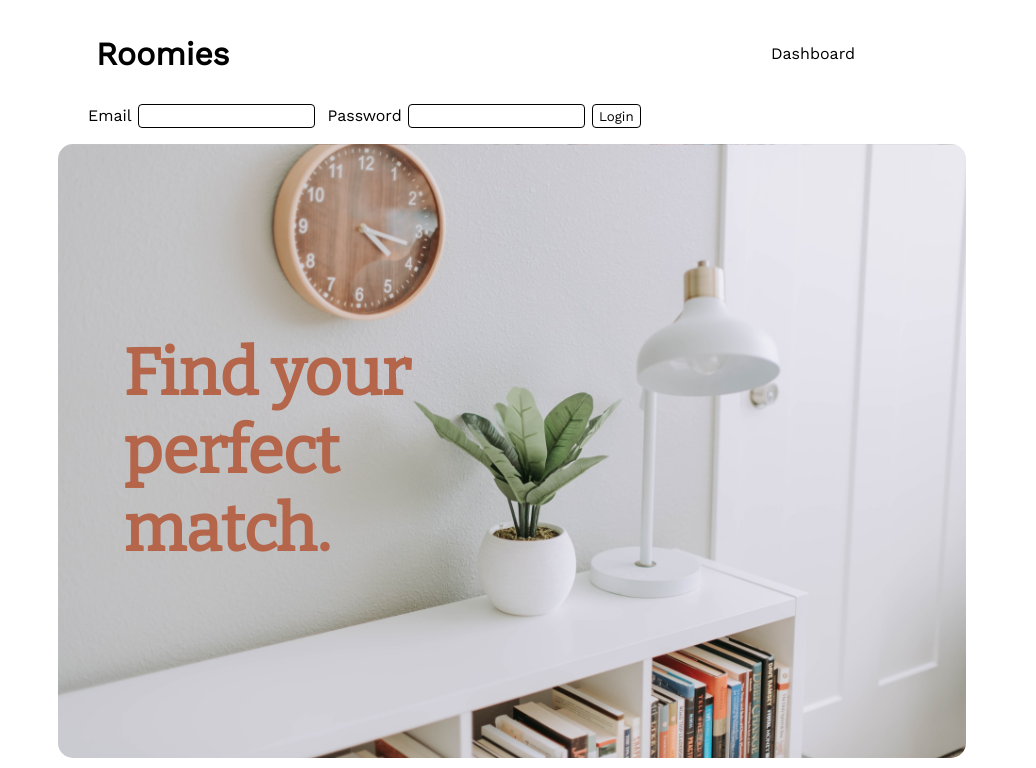
Test: Roomie Requests › Should display a message if the user has not requested any roomies
Type "harrison@email.com" into the field named "userName" at (227, 116), box [138,104,315,128]
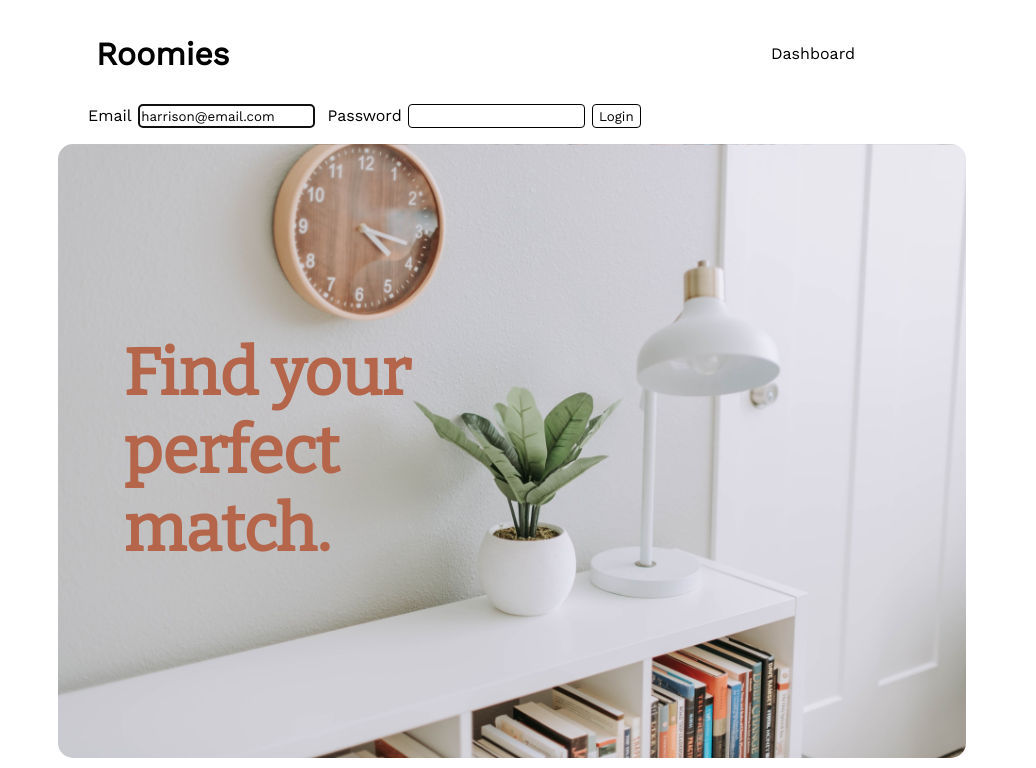
Type "test" into the password field named "password" at (497, 116), box [408,104,585,128]
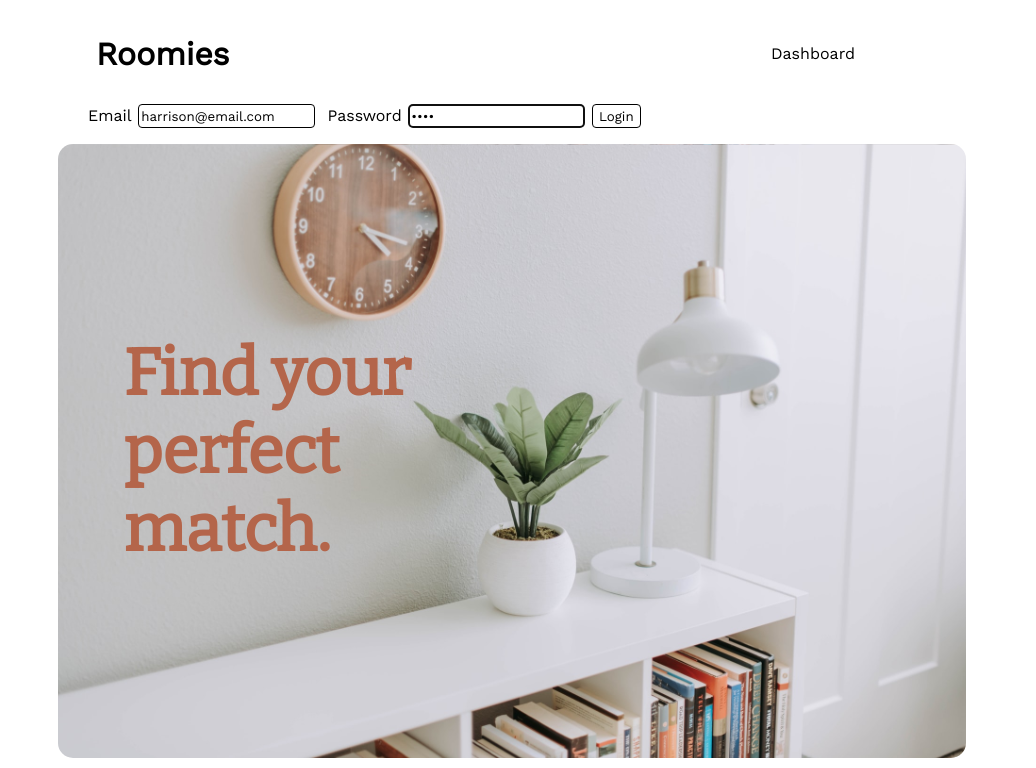
Click the button with class "submit-button" at (617, 117), box [592,105,641,128]
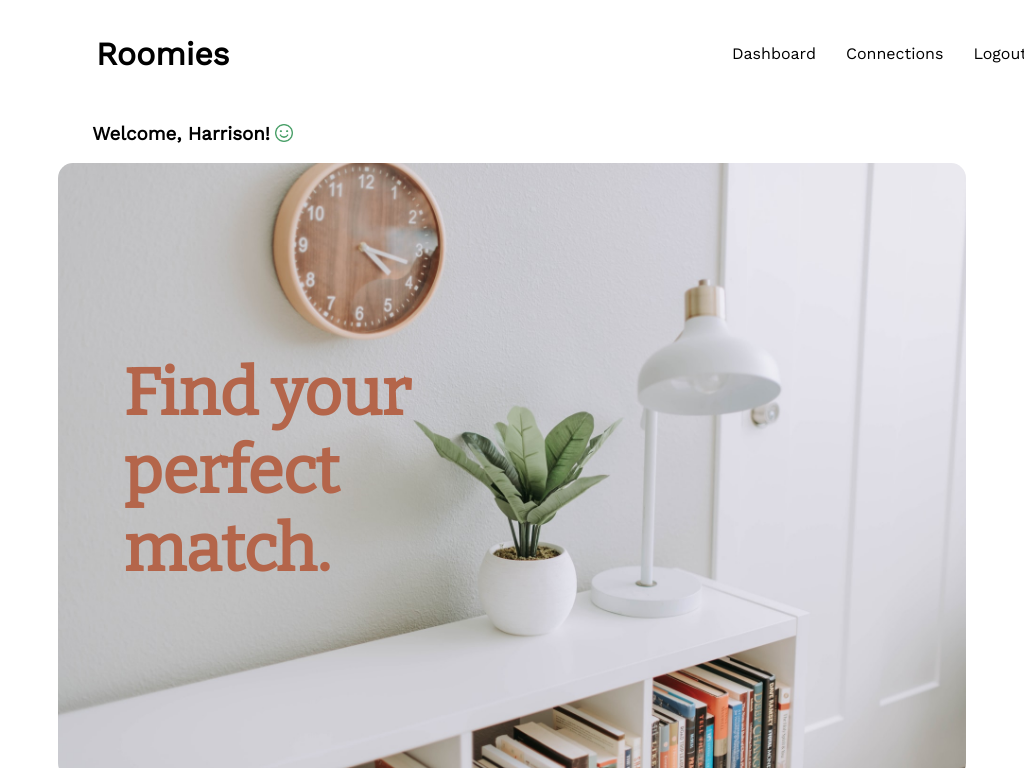
Click the link with class "connections" at (895, 54), box [846,44,944,63]
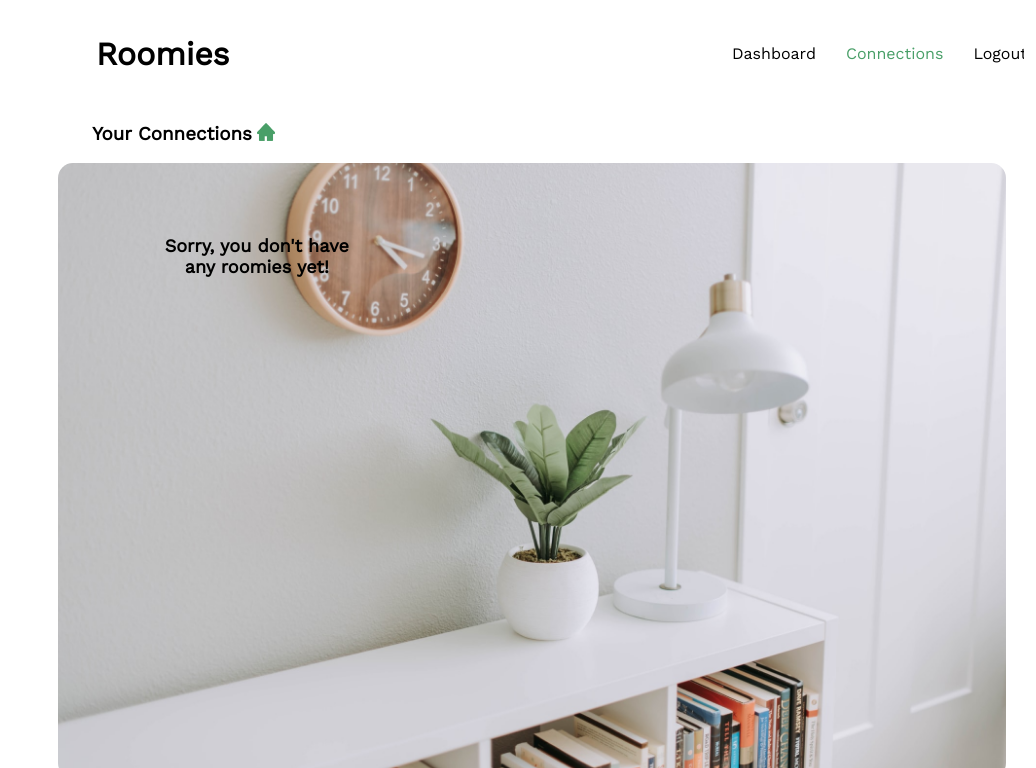
Now the heading with class "no-roomies-msg" reads "Sorry, you don't have any roomies yet!", box [165,235,349,277]
